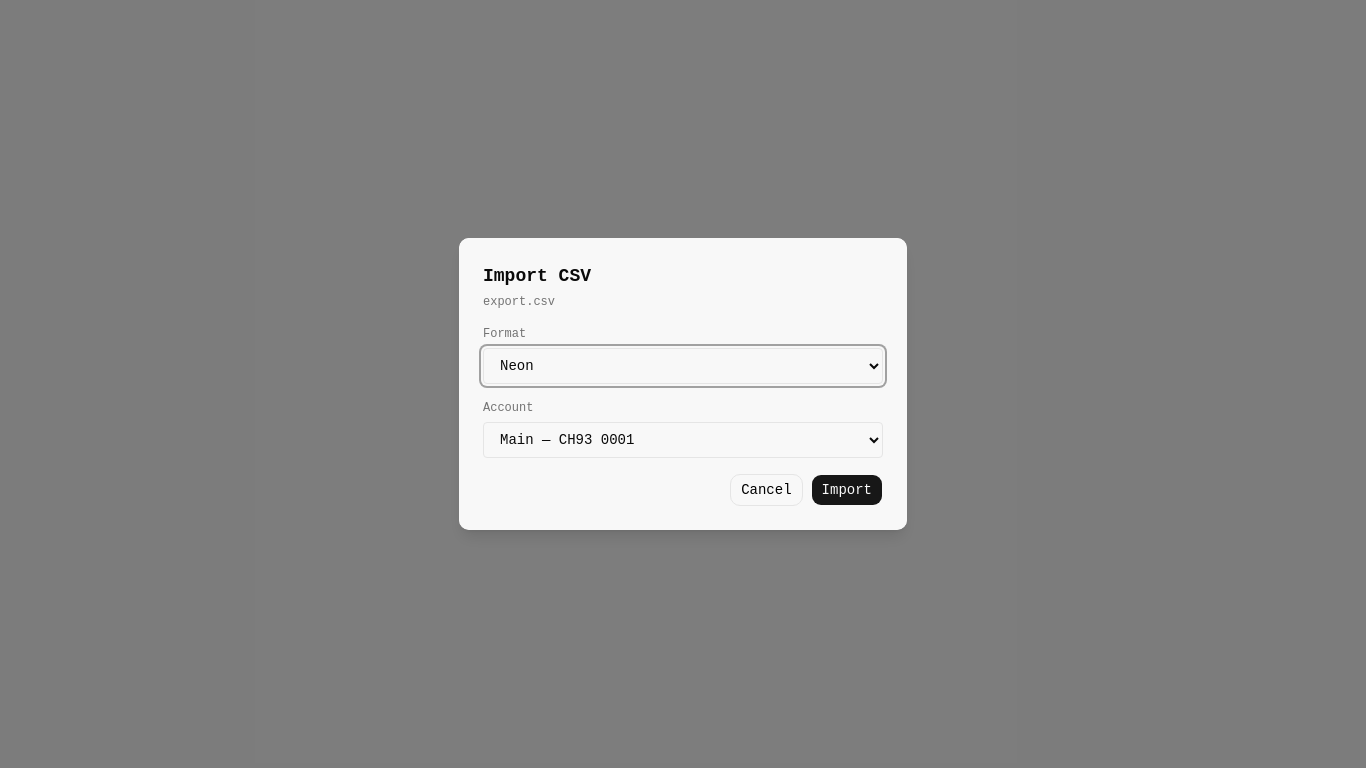
it: duplicate review › shows the review with a closed collapsible instead of closing
The width and height of the screenshot is (1366, 768).
Click the button "Import" at (847,490), box x1=811 y1=474 x2=883 y2=506
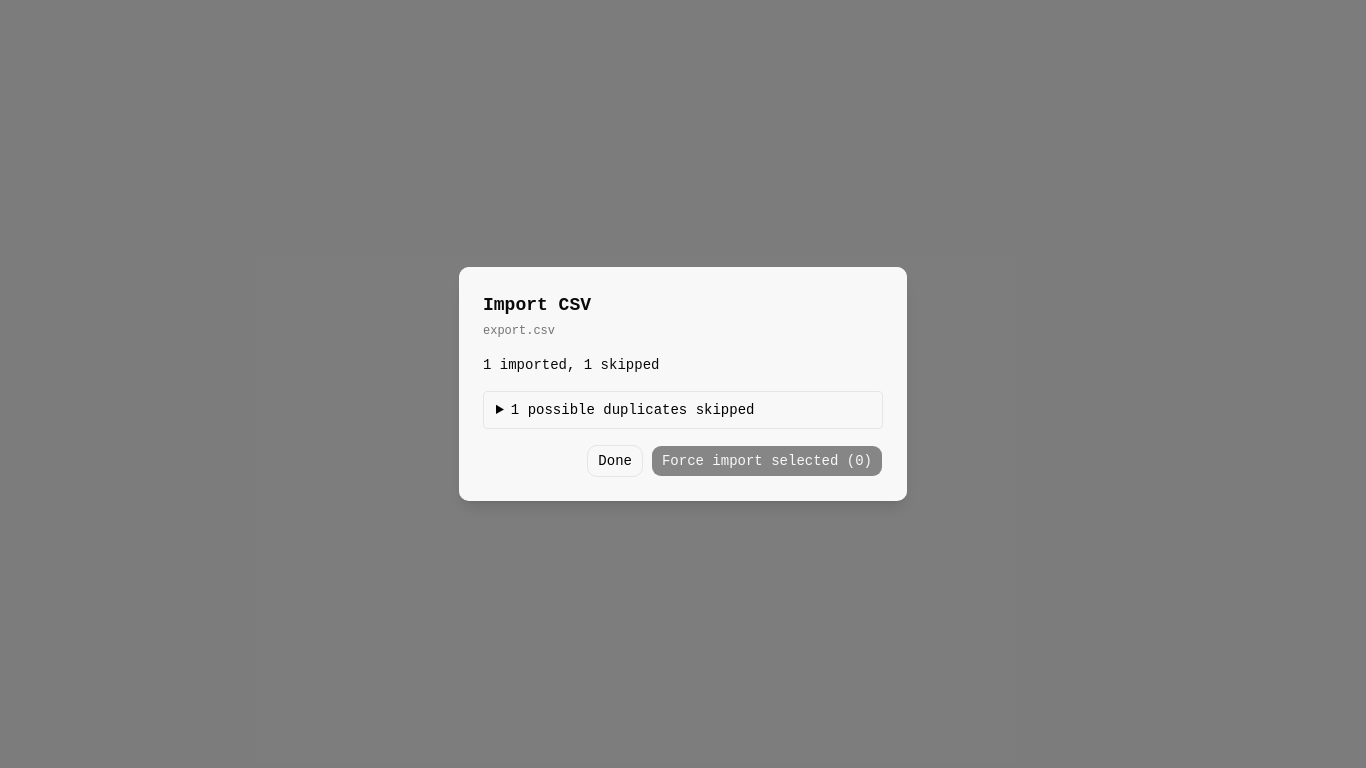
Check: the text "1 imported, 1 skipped" is shown, box x1=483 y1=357 x2=659 y2=373
